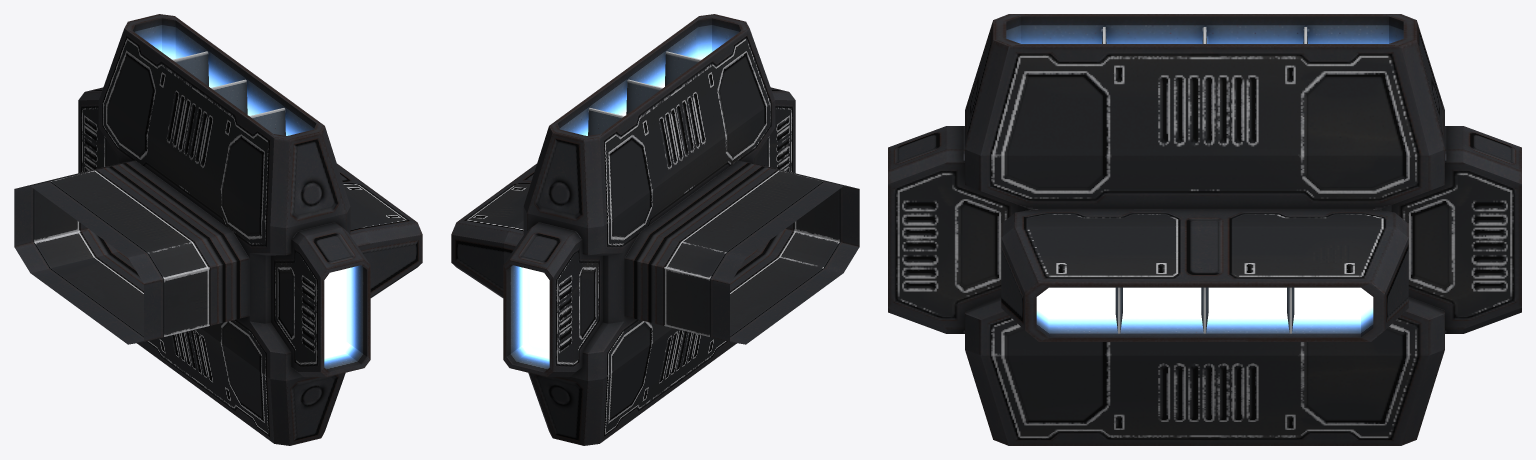
The model's file is ManeuveringThrusterArray1.fbx.
3 renders of one model, left to right at view 1: azimuth 30°, elevation 25°; view 2: azimuth 150°, elevation 25°; view 3: azimuth 270°, elevation 25°, orthographic. The views are drawn at different scales.
Parts seen in each view (by area): view 1: ManeuveringThrusterArray1; view 2: ManeuveringThrusterArray1; view 3: ManeuveringThrusterArray1.
Part boxes in pixels (<box>): ManeuveringThrusterArray1: <box>14,14,422,445</box>; ManeuveringThrusterArray1: <box>451,14,859,445</box>; ManeuveringThrusterArray1: <box>888,14,1521,445</box>.
Bounding box in the file's own units: 29.41 × 31.25 × 44.91.
